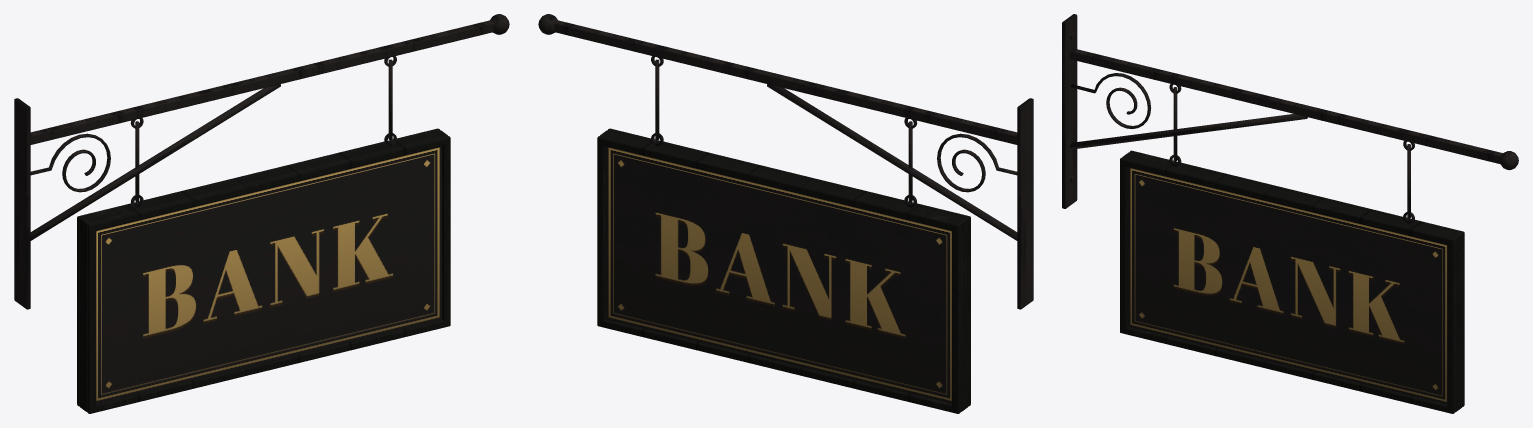
File: bank-hanging-sign.glb
3 renders of one model, left to right at view 1: azimuth 30°, elevation 25°; view 2: azimuth 150°, elevation 25°; view 3: azimuth 330°, elevation 25°, orthographic. The views are drawn at different scales.
Parts seen in each view (by area): view 1: bank-sign-board, bank-sign-bracket; view 2: bank-sign-board, bank-sign-bracket; view 3: bank-sign-board, bank-sign-bracket.
Part boxes in pixels (x1,y1,x2,y2): bank-sign-board: (77, 128, 450, 413); bank-sign-bracket: (14, 14, 509, 309); bank-sign-board: (597, 128, 970, 413); bank-sign-bracket: (538, 14, 1033, 309); bank-sign-board: (1120, 150, 1464, 413); bank-sign-bracket: (1062, 14, 1518, 223).
Bounding box in the file's own units: 1.62 × 1.02 × 0.075.
Materials: 3 (3 with a texture image).
